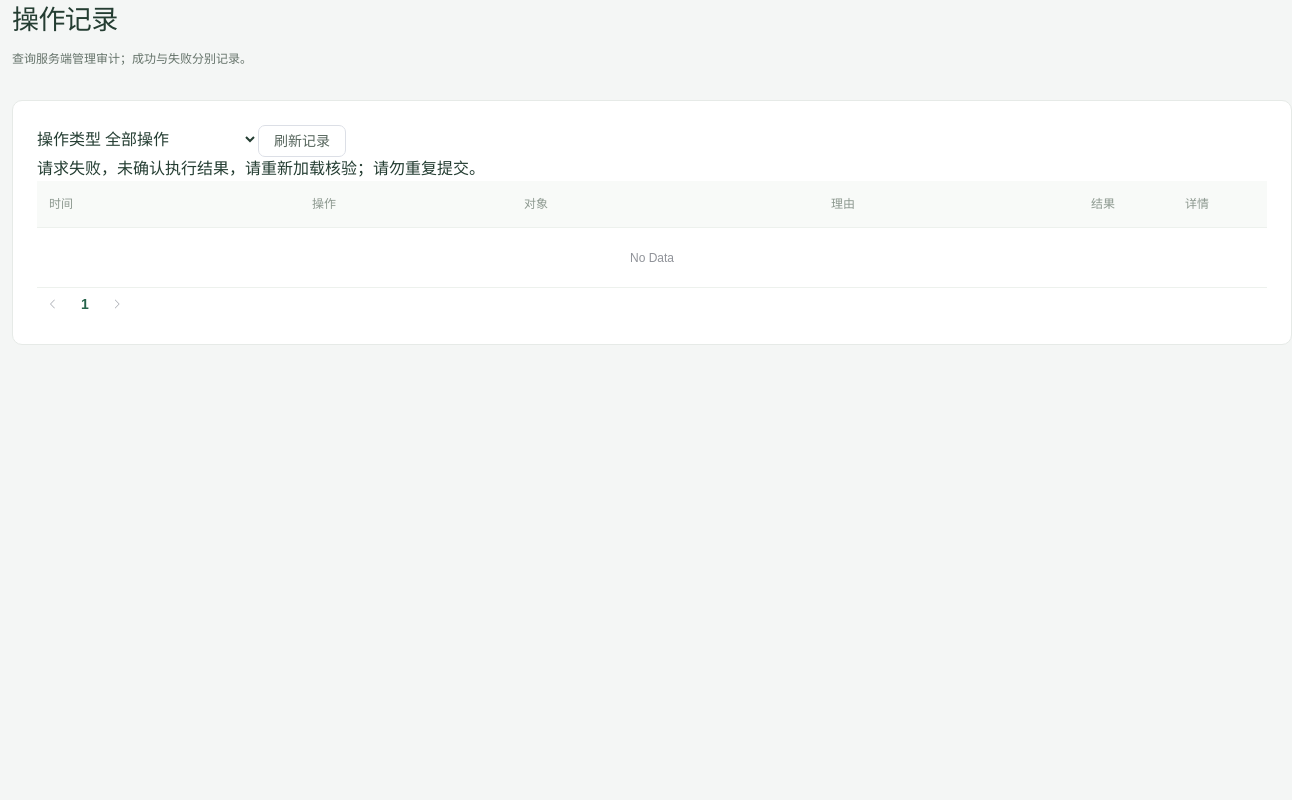
Test case: 审计失败不展示样例，重试成功后展示服务端记录与详情
What coordinates should you click on to do the following:
click the button "刷新记录"
I would click on:
 (302, 141)
Its box is [258,125,346,157].
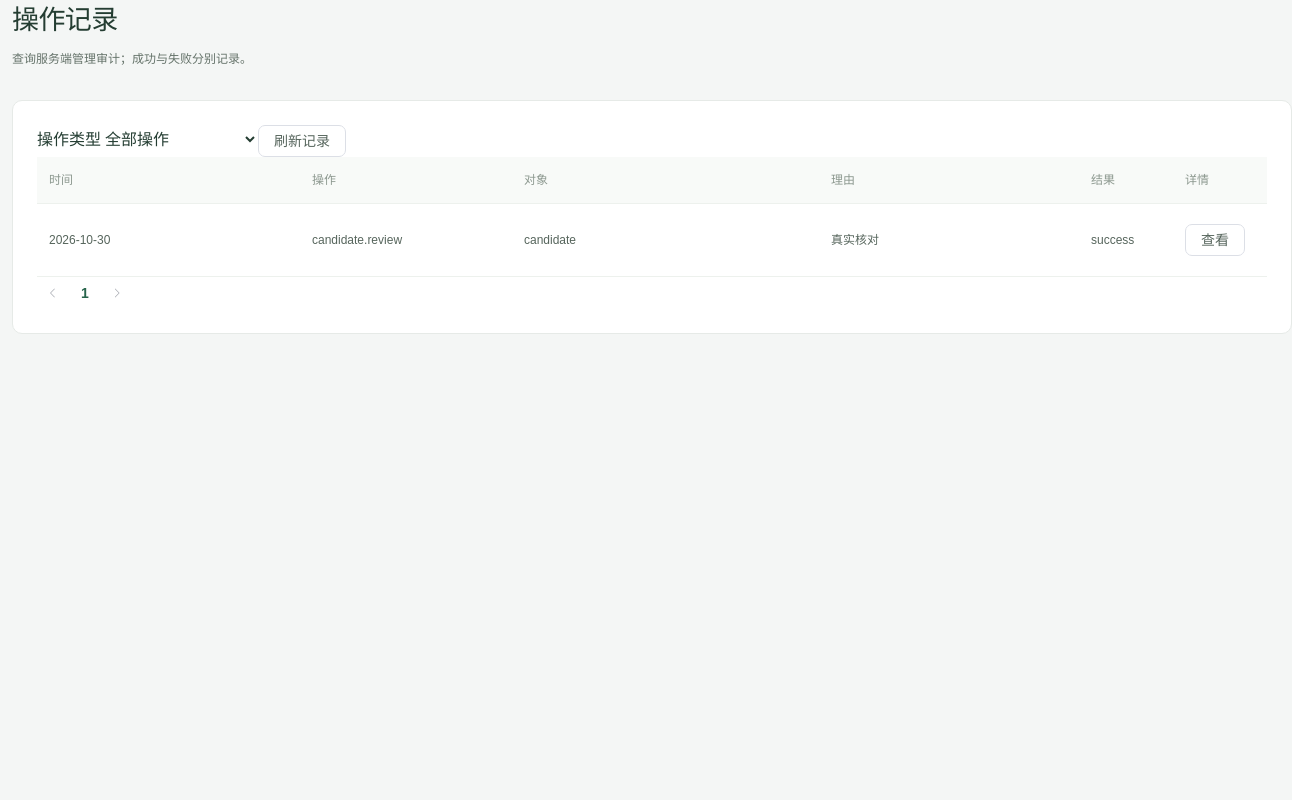
Result: the text "真实核对" is shown at [831,233,879,247]
What coordinates should you click on to do the following:
click the button "查看"
I would click on:
 (1215, 240)
Its box is [1185,224,1245,256].
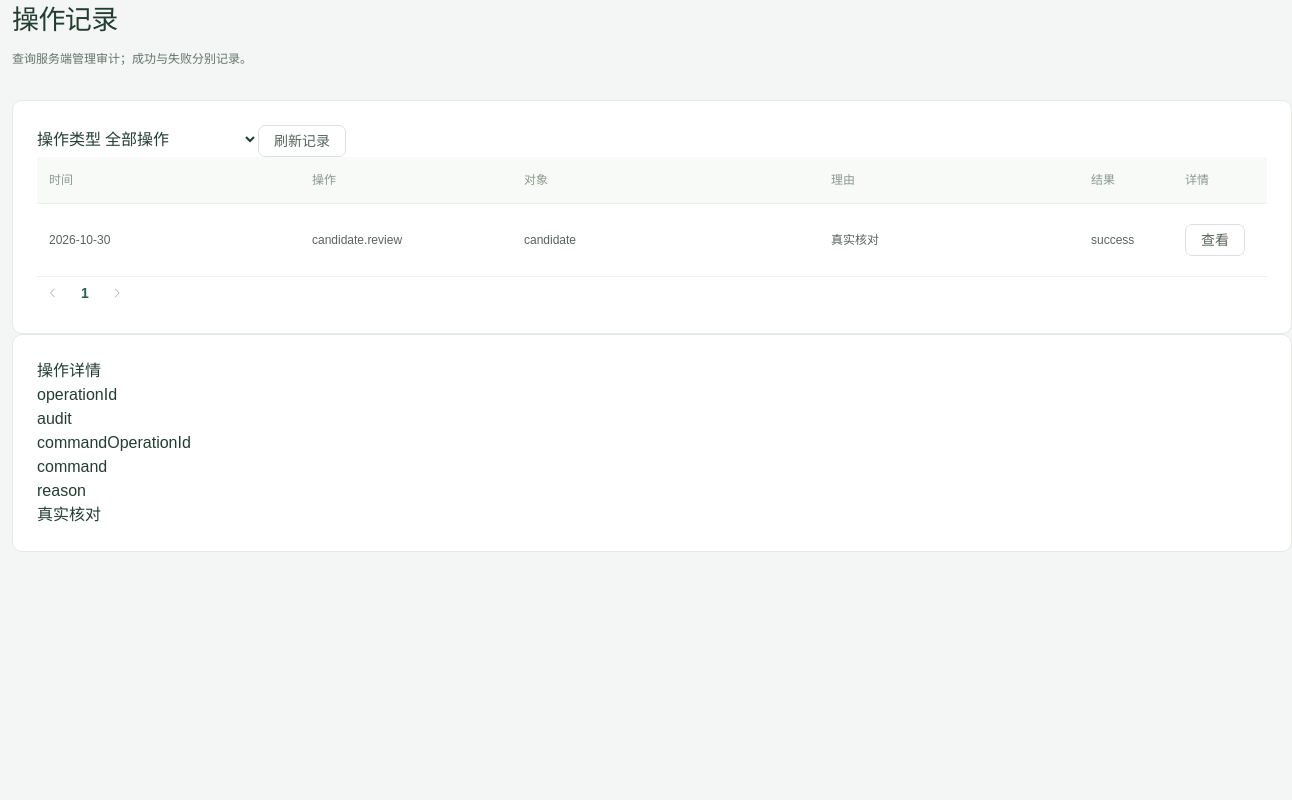
Result: the text "command" is shown at [37,434,191,451]
